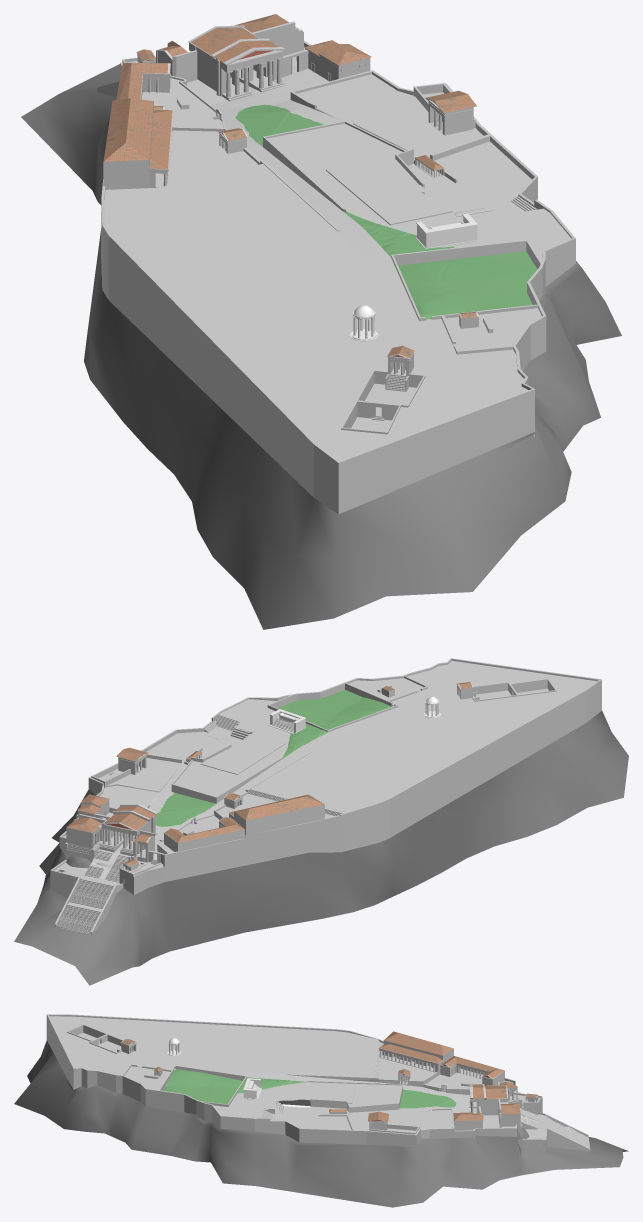
Rendered from AcropolisBase.fbx.
3 renders of one model, top to bottom at view 1: azimuth 30°, elevation 25°; view 2: azimuth 150°, elevation 25°; view 3: azimuth 270°, elevation 25°, orthographic. The views are drawn at different scales.
Visible parts, largest first — view 1: polySurface51, baseCliffs, polySurface81, polySurface80, polySurface83, polySurface84, polySurface1377; view 2: polySurface51, baseCliffs, polySurface81, polySurface80, polySurface83, polySurface1377, polySurface84; view 3: polySurface51, baseCliffs, polySurface80, polySurface81, polySurface83, polySurface1377, polySurface84.
Part boxes in pixels (<box>): polySurface51: <box>97,40,575,514</box>; baseCliffs: <box>21,64,621,629</box>; polySurface81: <box>132,14,371,97</box>; polySurface80: <box>103,63,189,189</box>; polySurface83: <box>341,345,425,434</box>; polySurface84: <box>425,90,476,135</box>; polySurface1377: <box>416,213,479,248</box>; polySurface51: <box>50,658,601,934</box>; baseCliffs: <box>14,711,628,985</box>; polySurface81: <box>65,794,163,873</box>; polySurface80: <box>164,794,324,851</box>; polySurface83: <box>456,678,556,701</box>; polySurface1377: <box>268,709,306,733</box>; polySurface84: <box>116,747,148,774</box>; polySurface51: <box>46,1014,590,1154</box>; baseCliffs: <box>14,1040,628,1207</box>; polySurface80: <box>378,1031,504,1086</box>; polySurface81: <box>453,1081,540,1139</box>; polySurface83: <box>66,1024,136,1053</box>; polySurface1377: <box>243,1078,261,1099</box>; polySurface84: <box>368,1111,388,1130</box>.
Size of the model in its own units: 192 by 62.4 by 348.
Materials: 5 (1 with a texture image).
